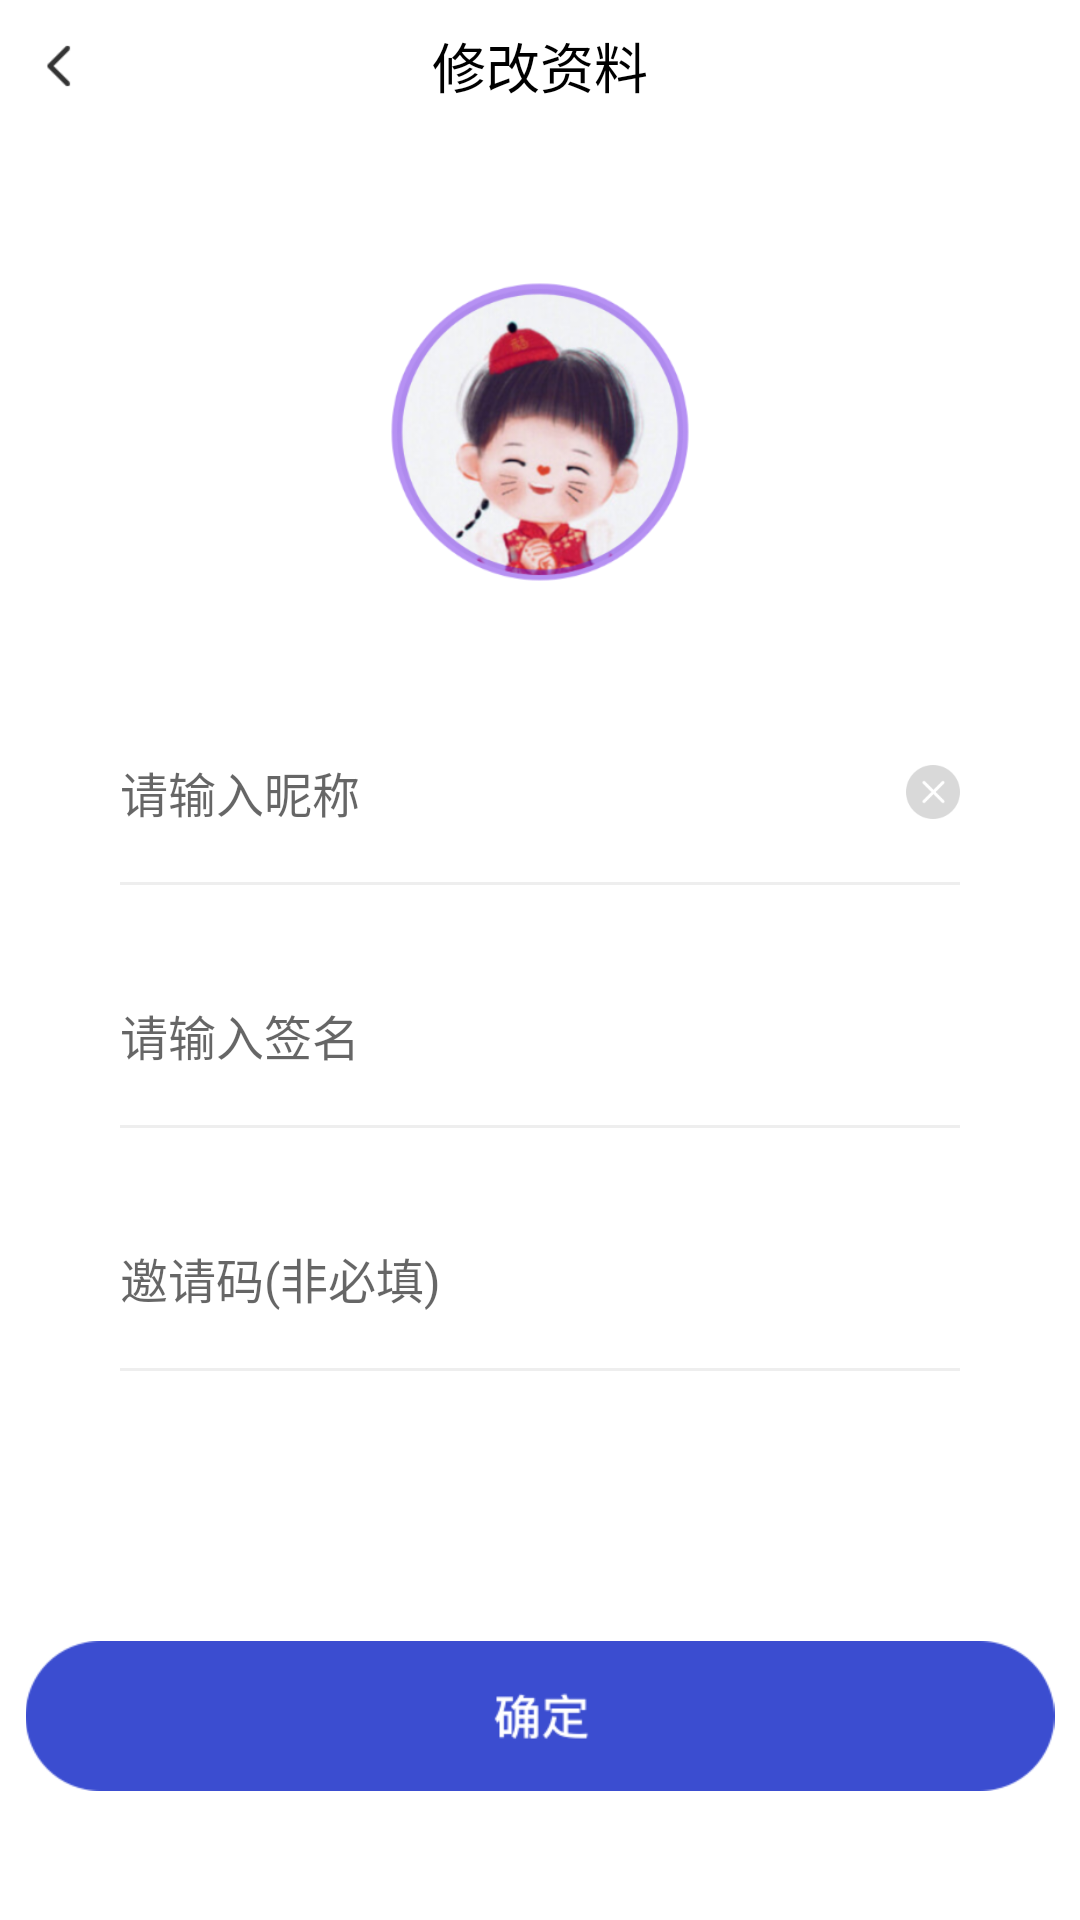

Screen size 1080 x 1920. Icon name, then its center in pixels as [x,y]:
back: [58,66]
close: [933,792]
head: [540,432]
